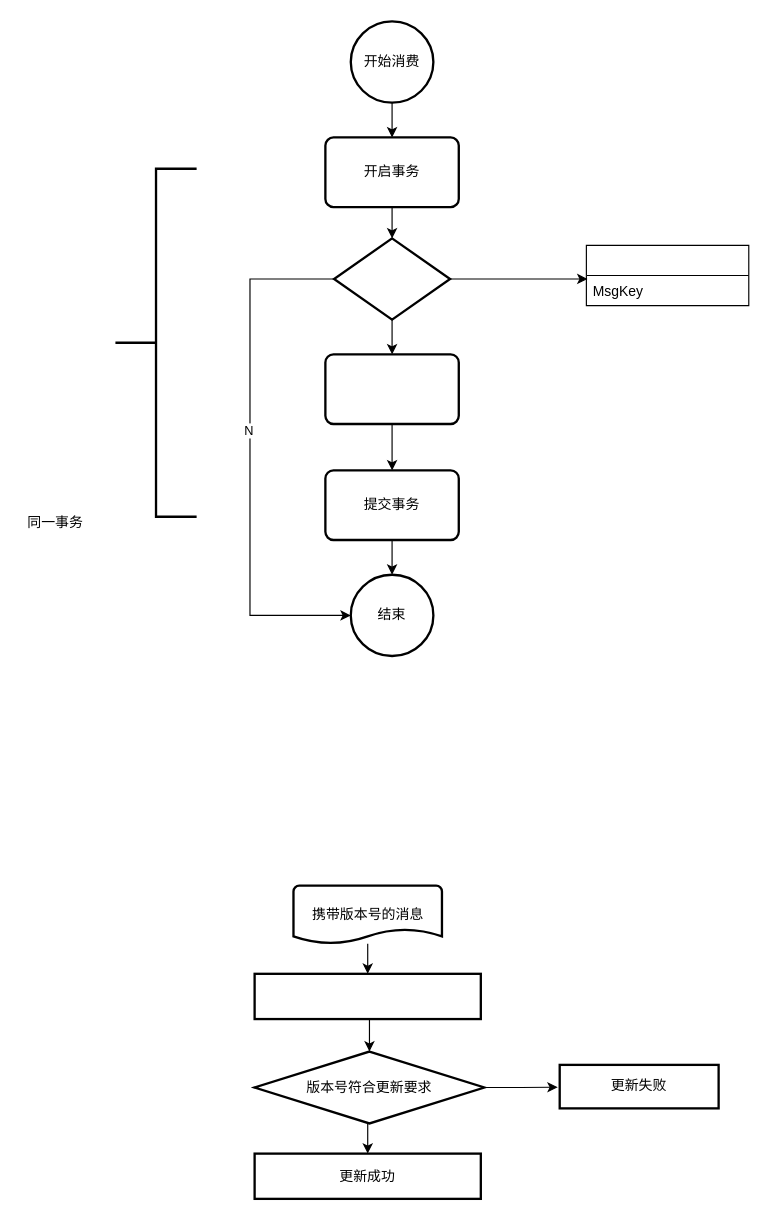
This 769x1219 diagram has some shape labels left out. Here are the shapes that lost their labels. From the top down, the box of each, then its label:
(332, 237, 451, 320): 插入消息表
(585, 244, 749, 306): 消息表 (唯一约束)
(324, 353, 459, 425): 本地事务逻辑
(253, 972, 481, 1020): 使用版本号更新数据库
